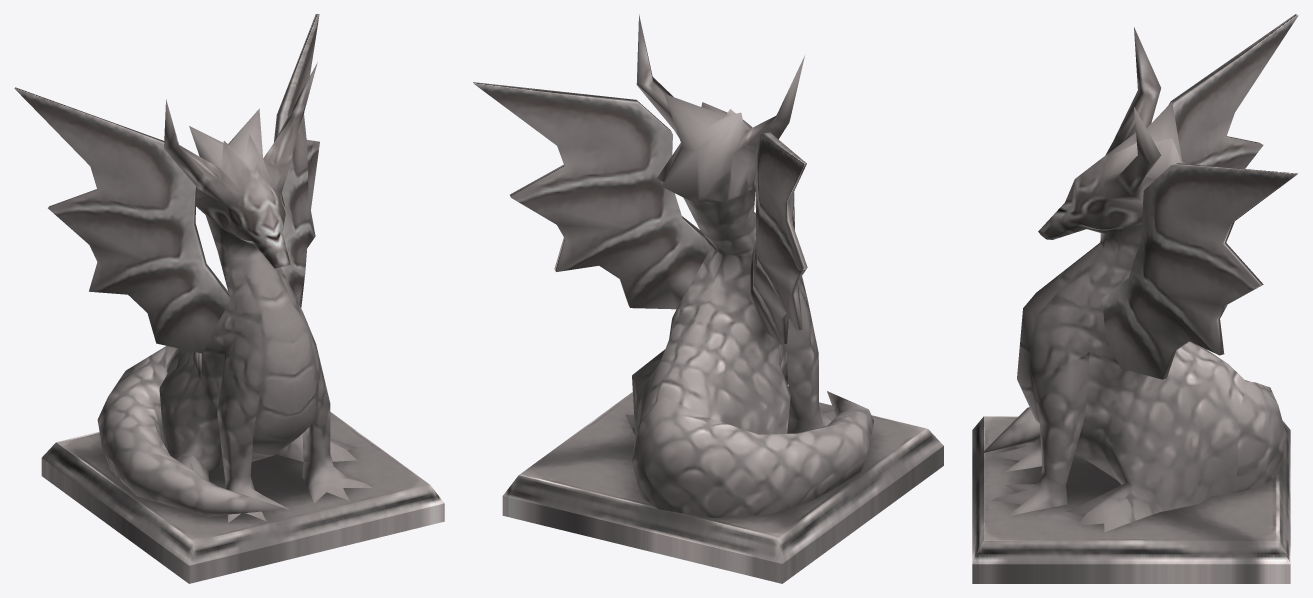
File: DragonStatue_L_HD.fbx
The picture shows the model from 3 angles, left to right: view 1: azimuth 30°, elevation 25°; view 2: azimuth 150°, elevation 25°; view 3: azimuth 270°, elevation 25°; orthographic projection. The views are drawn at different scales.
Parts seen in each view (by area): view 1: polySurface7; view 2: polySurface7; view 3: polySurface7.
Boxes of the visible parts, left/top/right/bottom form: polySurface7: left=14, top=14, right=444, bottom=583; polySurface7: left=473, top=14, right=943, bottom=583; polySurface7: left=972, top=14, right=1298, bottom=583.
Size of the model in its own units: 2.39 by 3.13 by 2.05.
